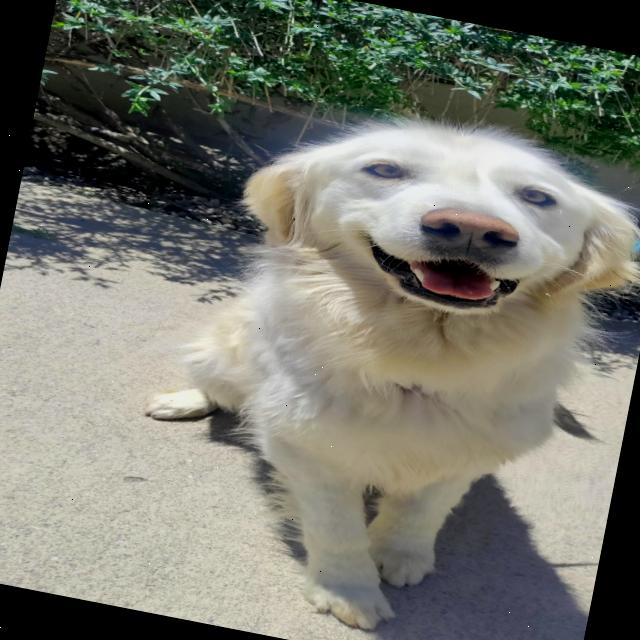golden_retriever_dog: (195, 73, 640, 362)
